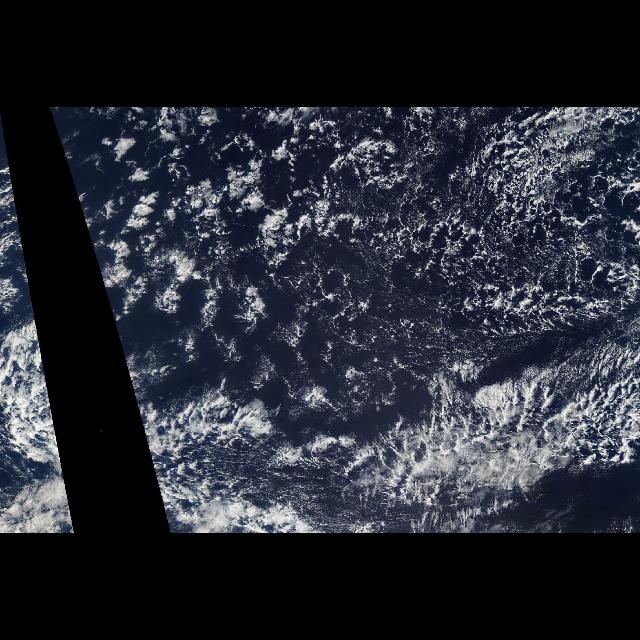Fish: (344, 327, 640, 508)
Flower: (112, 126, 312, 280)
Gravel: (204, 108, 632, 370), (393, 376, 614, 474)
